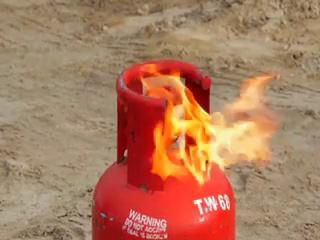Fire: (120, 44, 286, 190)
